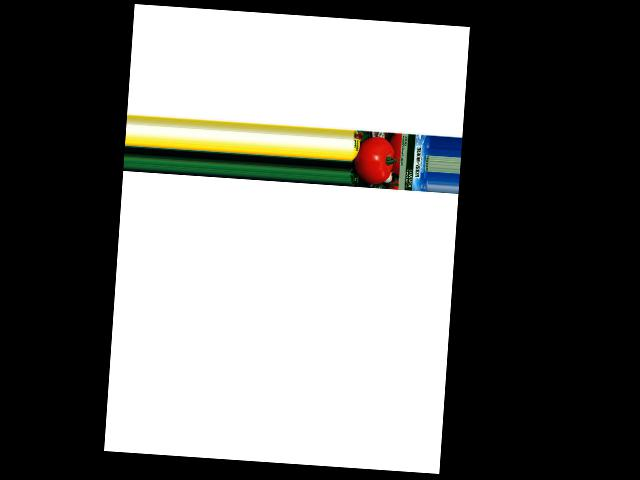tomato: (352, 135, 394, 185)
